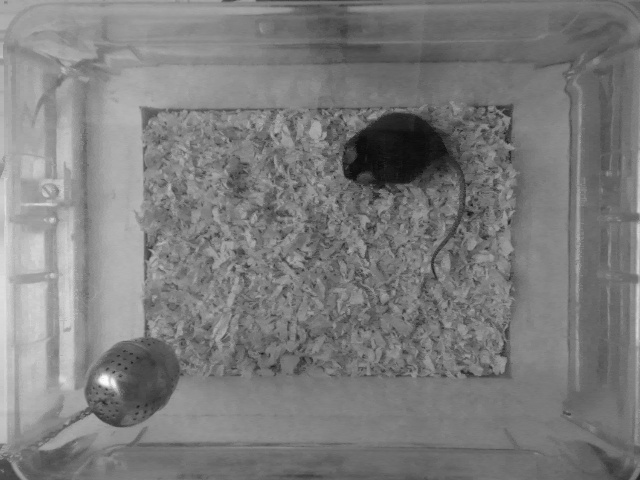mice: (339, 112, 473, 279)
